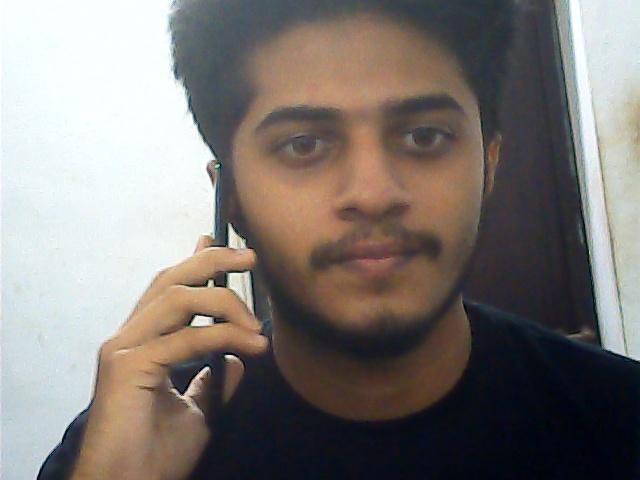PhoneUse: (188, 164, 252, 407)
SafeDriving: (381, 103, 468, 165), (261, 115, 351, 170)
